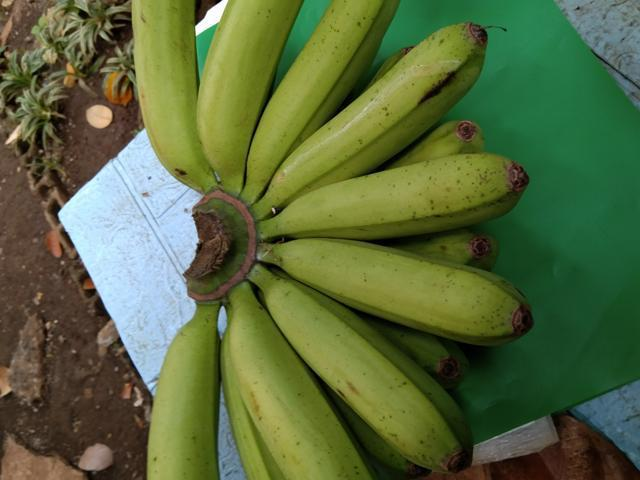freshunripe: (267, 285, 470, 479), (276, 225, 532, 351), (242, 0, 397, 186), (271, 153, 534, 248), (212, 323, 356, 479), (189, 0, 309, 175), (123, 0, 218, 190), (128, 309, 222, 479)
unripe: (264, 17, 488, 192)
